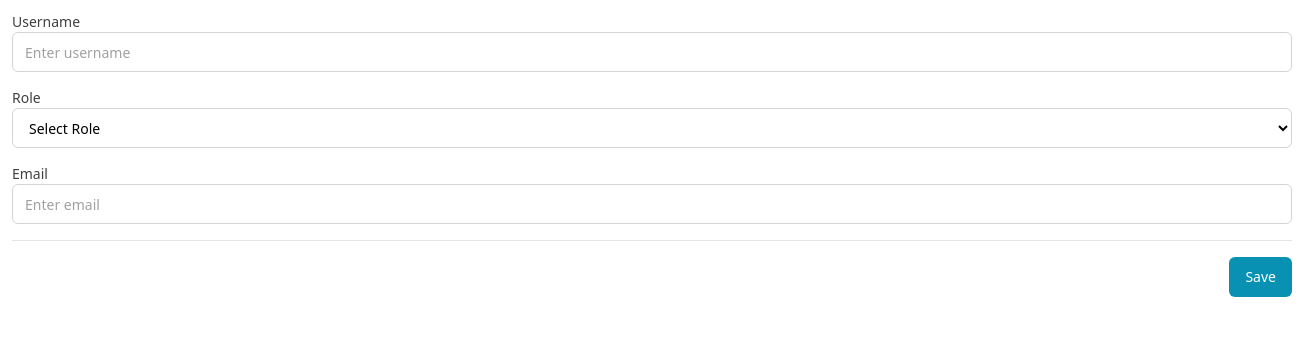
Test: AdminCrudForm › shows a required error on empty submit
Click the button "Save": x=1261, y=277 left=1229, top=257, right=1292, bottom=297
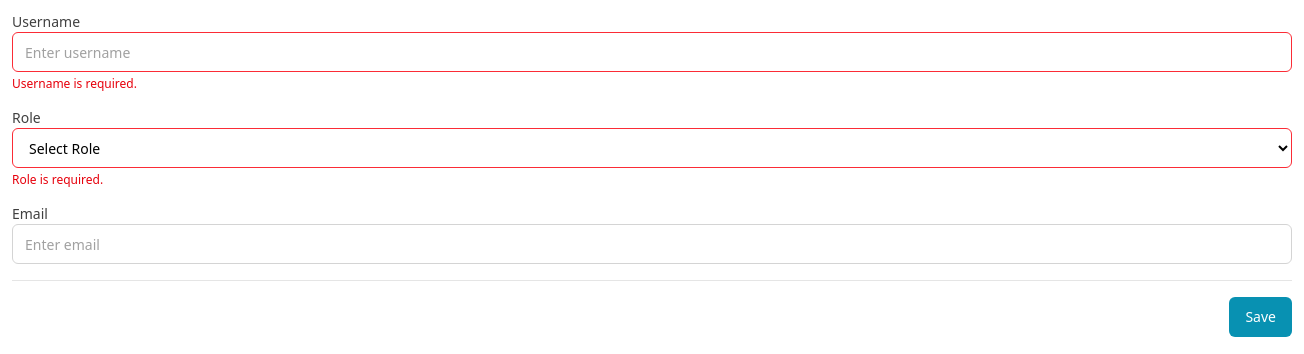
Expected: the text "Username is required." is shown, left=12, top=75, right=137, bottom=92
Expected: the text "Role is required." is shown, left=12, top=171, right=103, bottom=188
